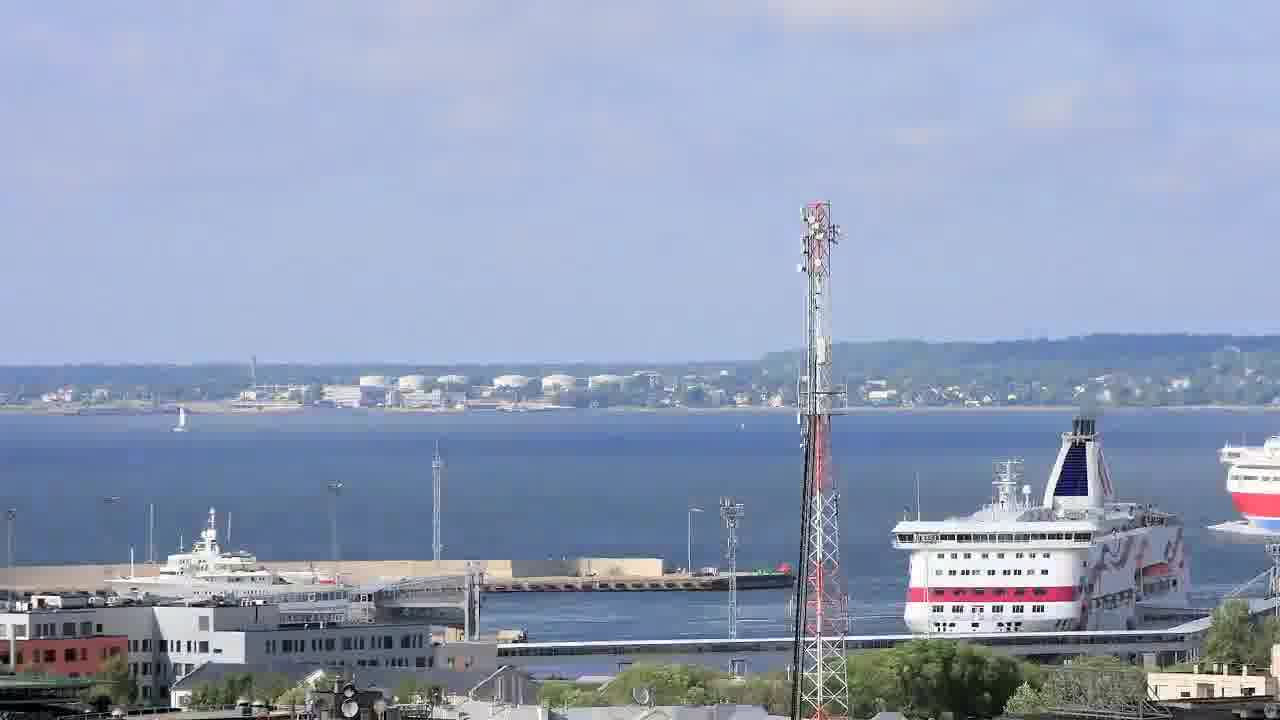type-2: (158, 396, 226, 450)
type-3: (868, 415, 1225, 638), (89, 518, 402, 620), (1205, 427, 1280, 536)
